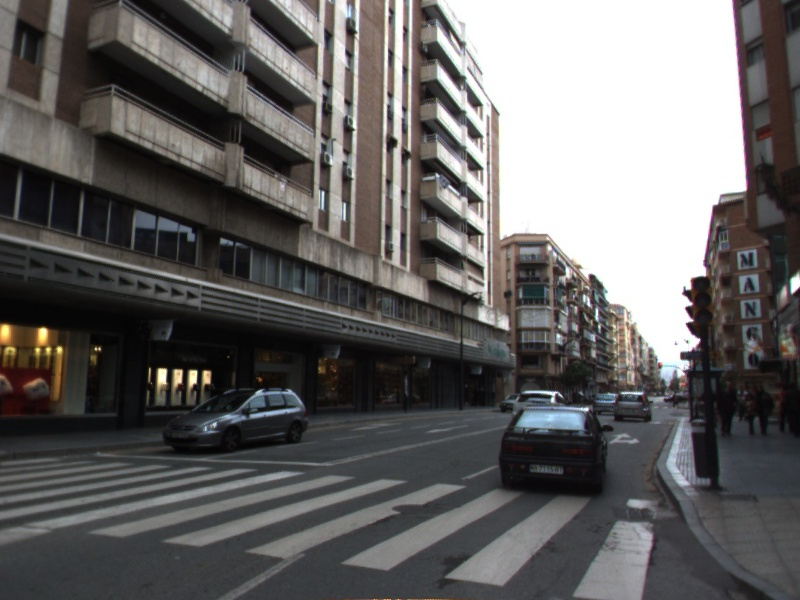STRAIGHT_RIGHT: (607, 431, 642, 446)
